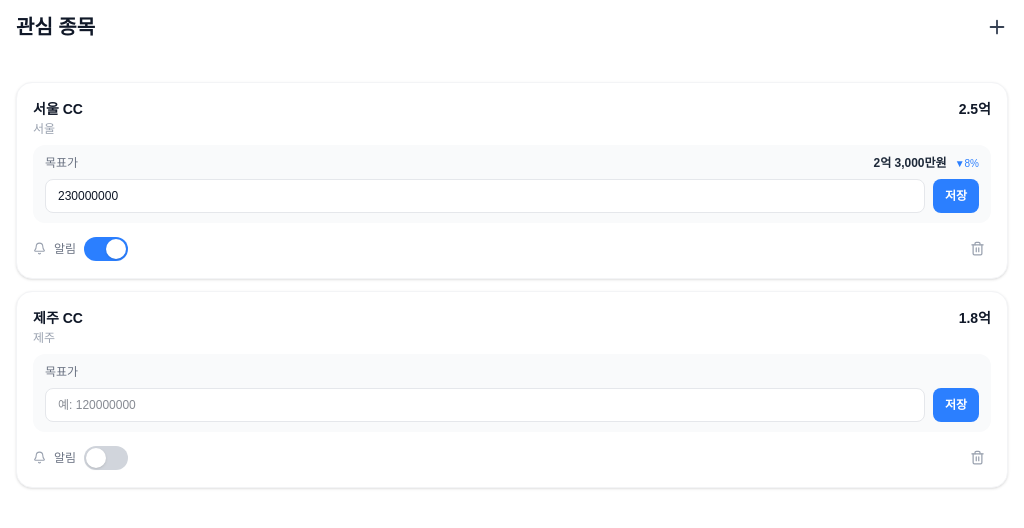
Test case: WatchlistPage › 목표가에 숫자가 아닌 값을 입력하면 저장하지 않는다
This screenshot has width=1024, height=528.
In the field named "목표가(원)": (485, 405) [45,388,925,422], type "가격"
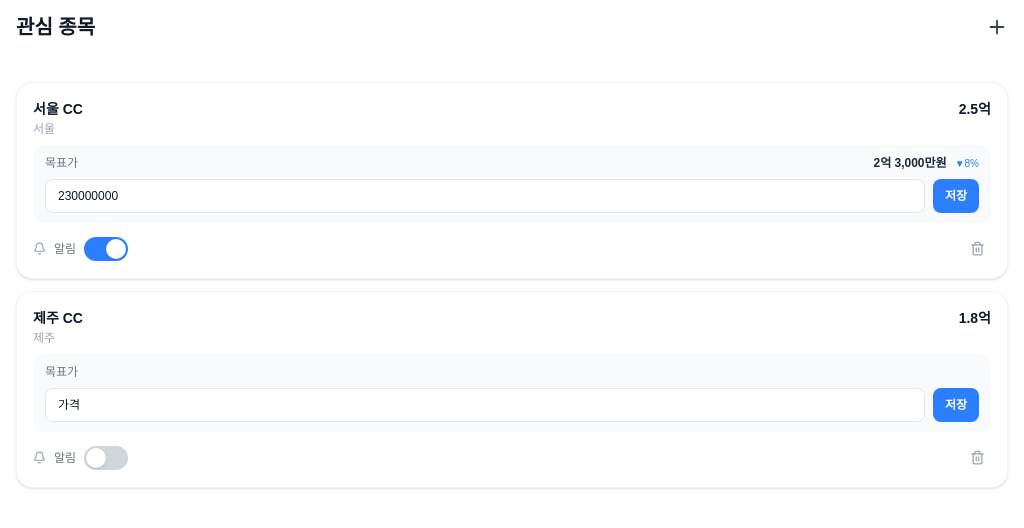
Submit the form named "제주 CC 목표가 설정", box [45,388,979,422]
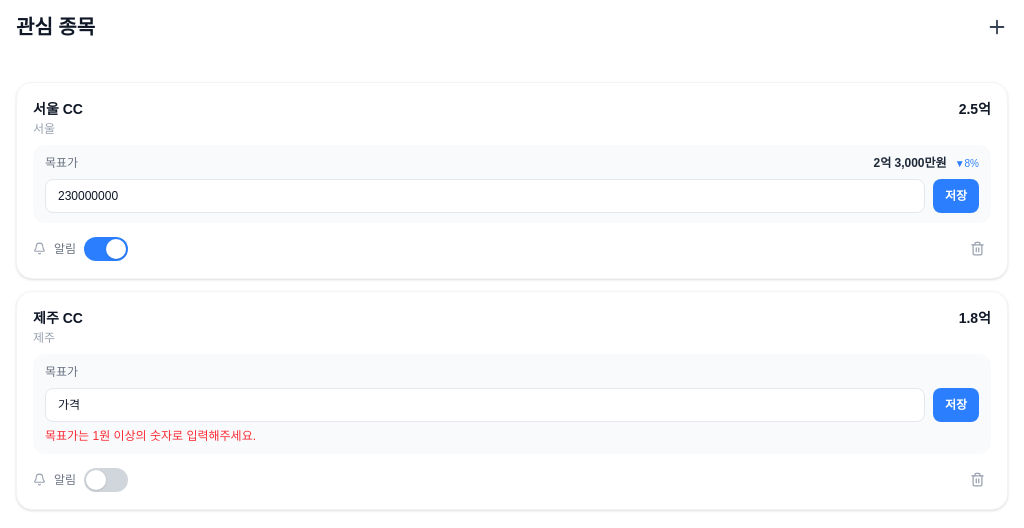
Check: the message reads "목표가는 1원 이상의 숫자로 입력해주세요.", box [45,429,256,443]
